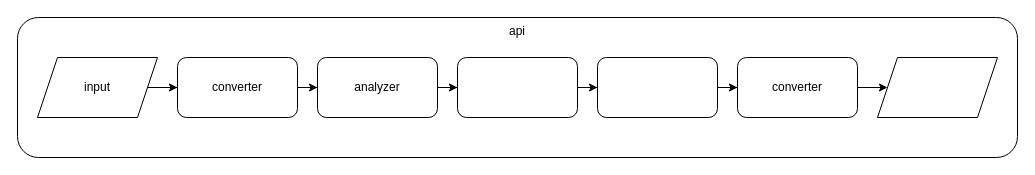
Some shapes in this 1035 by 175 pixel diagram are drawn without their labels. Each missing label, with the centre of its shape:
"expression" goes at point (657, 87).
"optimizer" goes at point (517, 87).
"output" goes at point (937, 87).
